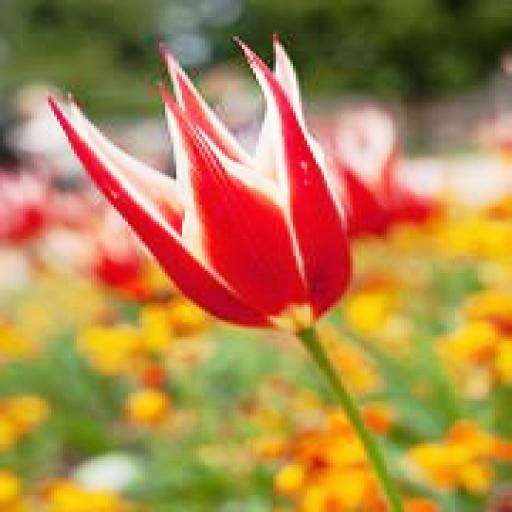tulip: (54, 32, 364, 335)
